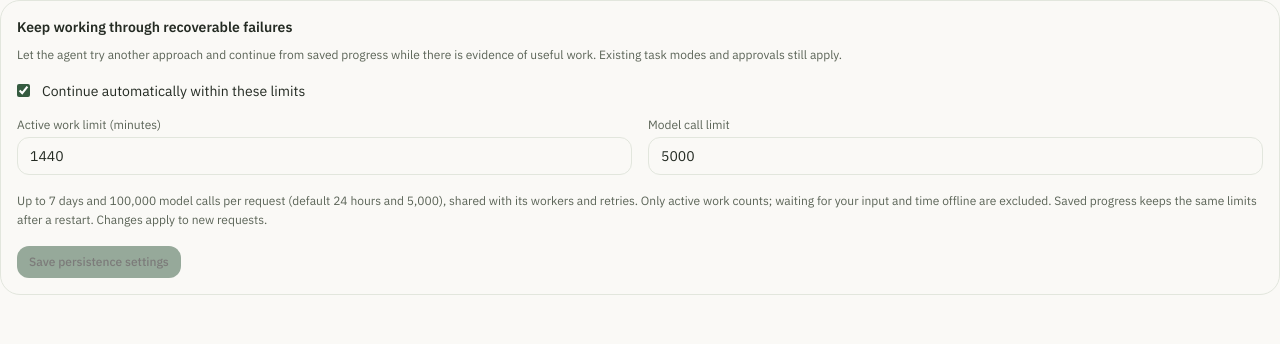
rejects limits above the ceiling and keeps failed saves editable
Replace the text in the number field named "Persistence model call limit" with "100001" at (956, 156), box [648,136,1263,174]
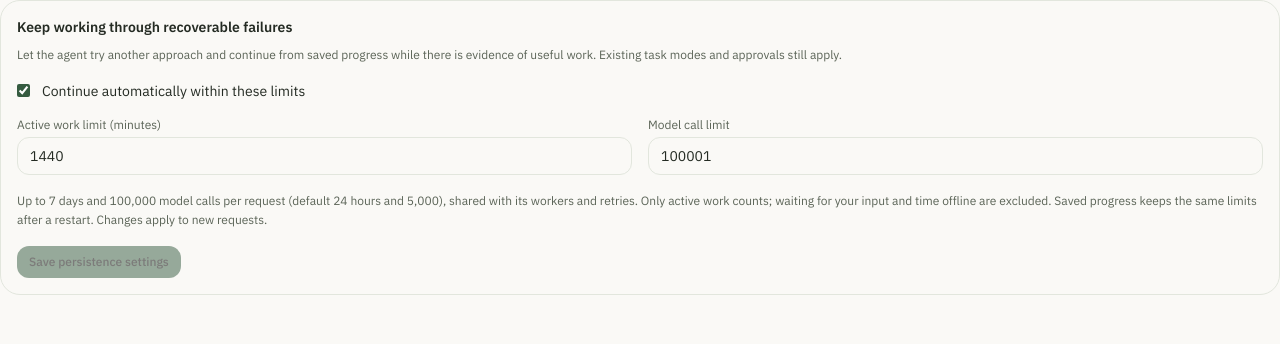
Expected: the button "Save persistence settings" is disabled, [17,246,181,278]
Replace the text in the number field named "Persistence model call limit" with "800" at (956, 156), box [648,136,1263,174]
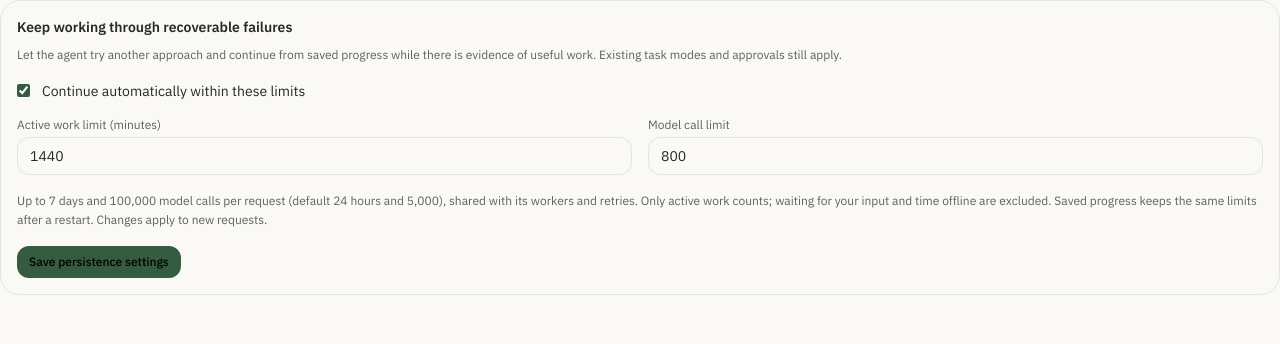
Click the button "Save persistence settings" at (99, 262), box [17,246,181,278]
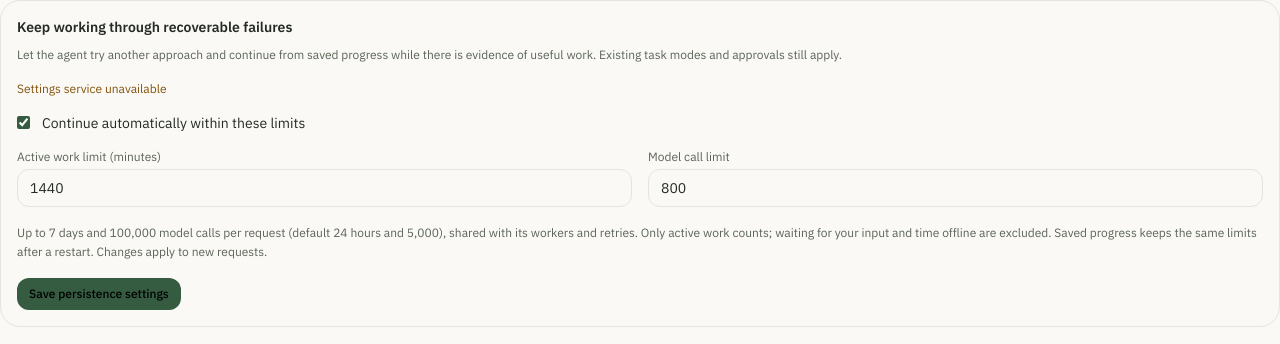
Now the button "Save persistence settings" is enabled, box [17,278,181,310]
Now the message reads "Settings service unavailable", box [17,80,167,96]
